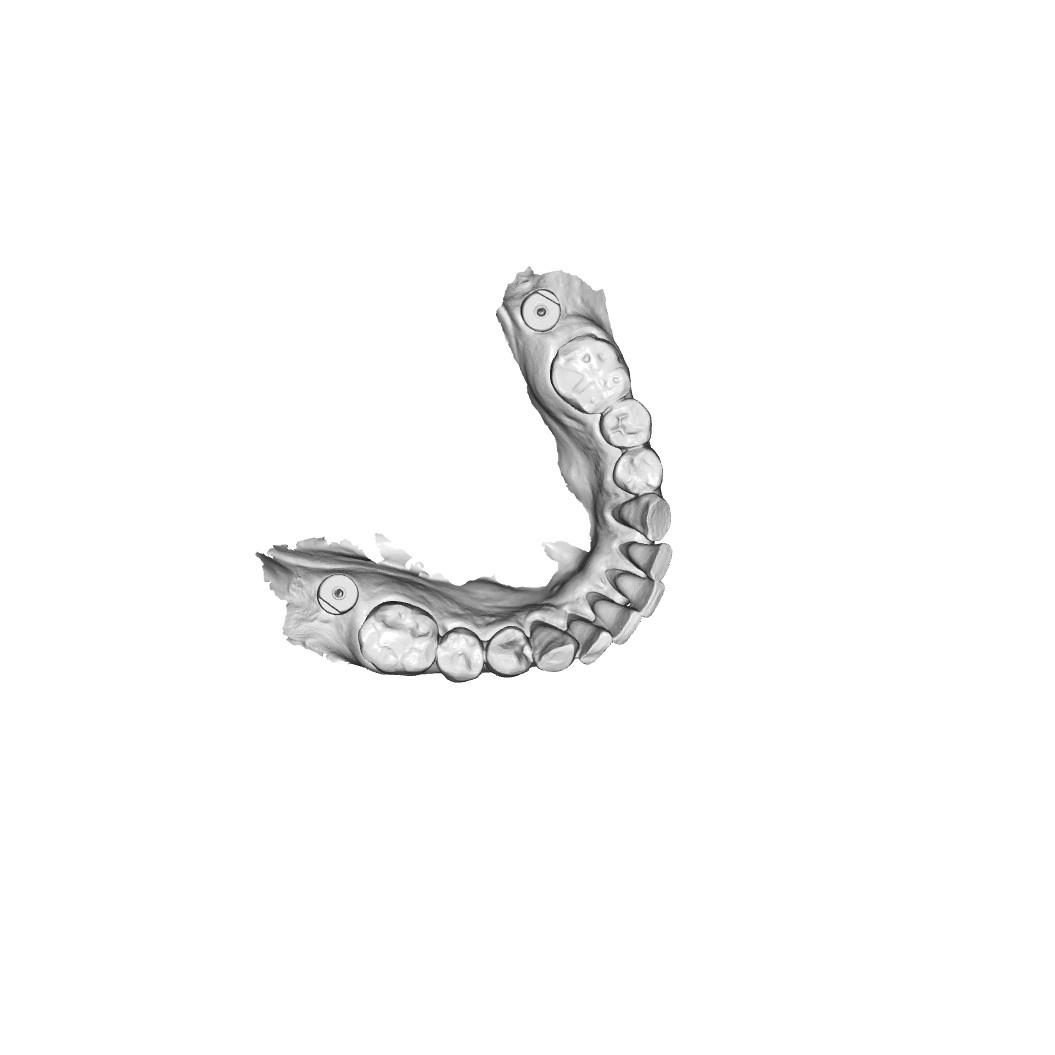canine: (530, 619, 579, 676), (617, 493, 674, 542)
implant: (522, 287, 565, 333), (316, 575, 363, 616)
incisor: (612, 570, 667, 618), (592, 598, 642, 646), (570, 615, 610, 667), (625, 540, 676, 577)
molar: (356, 600, 440, 676), (552, 333, 629, 414)
premolar: (598, 398, 650, 450), (437, 628, 484, 683), (486, 625, 531, 681), (616, 448, 665, 496)
